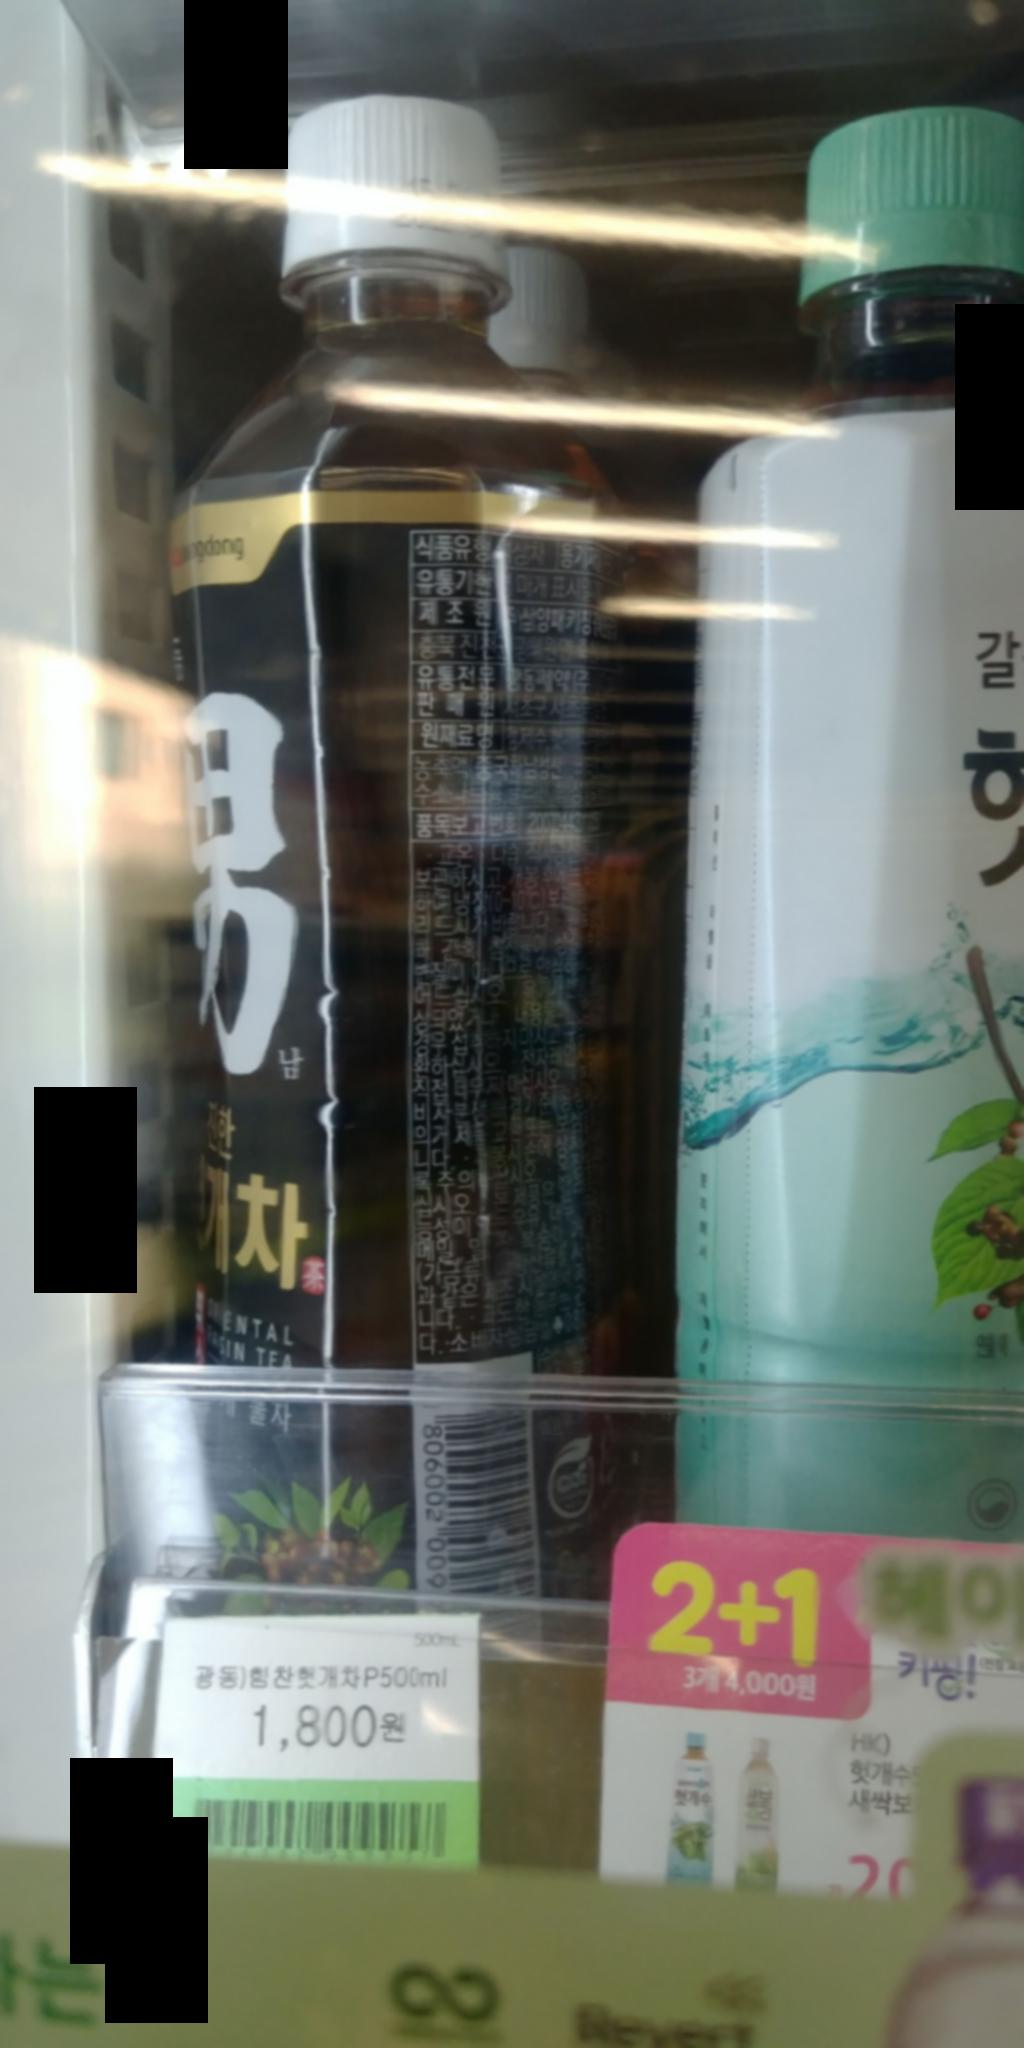heotgaecha: (114, 76, 677, 1614)
